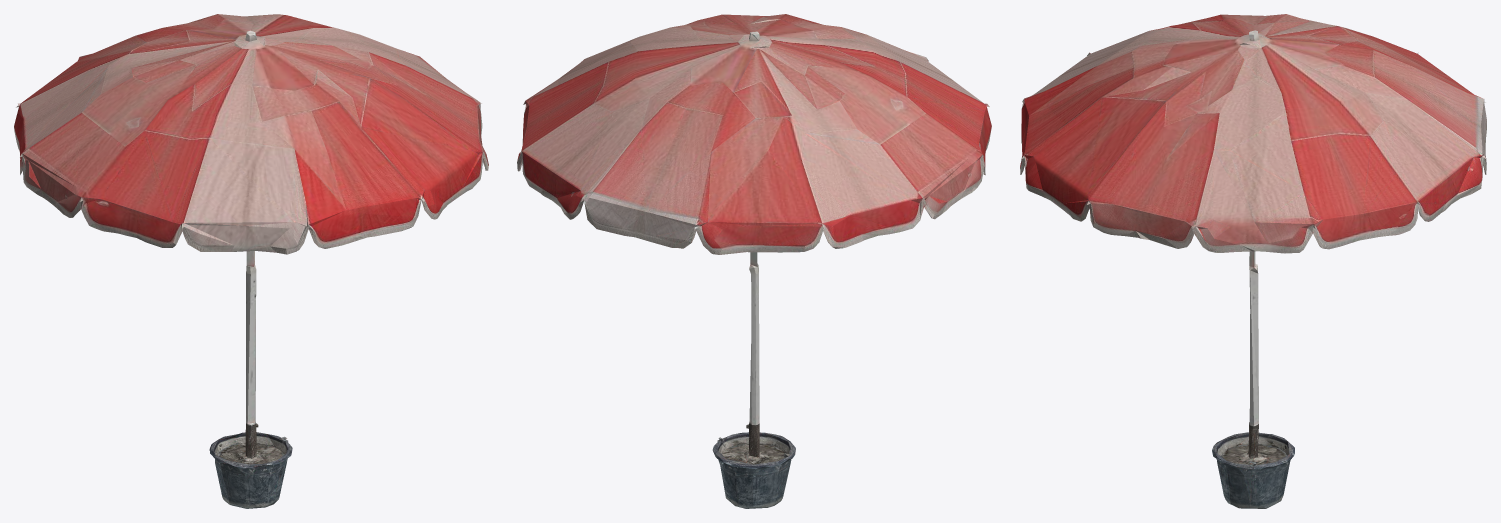
File: umbrella.glb
3 renders of one model, left to right at view 1: azimuth 30°, elevation 25°; view 2: azimuth 150°, elevation 25°; view 3: azimuth 270°, elevation 25°, orthographic.
Bounding box in the file's own units: 1.74 × 1.9 × 1.72.
1 material, 1 textured.
